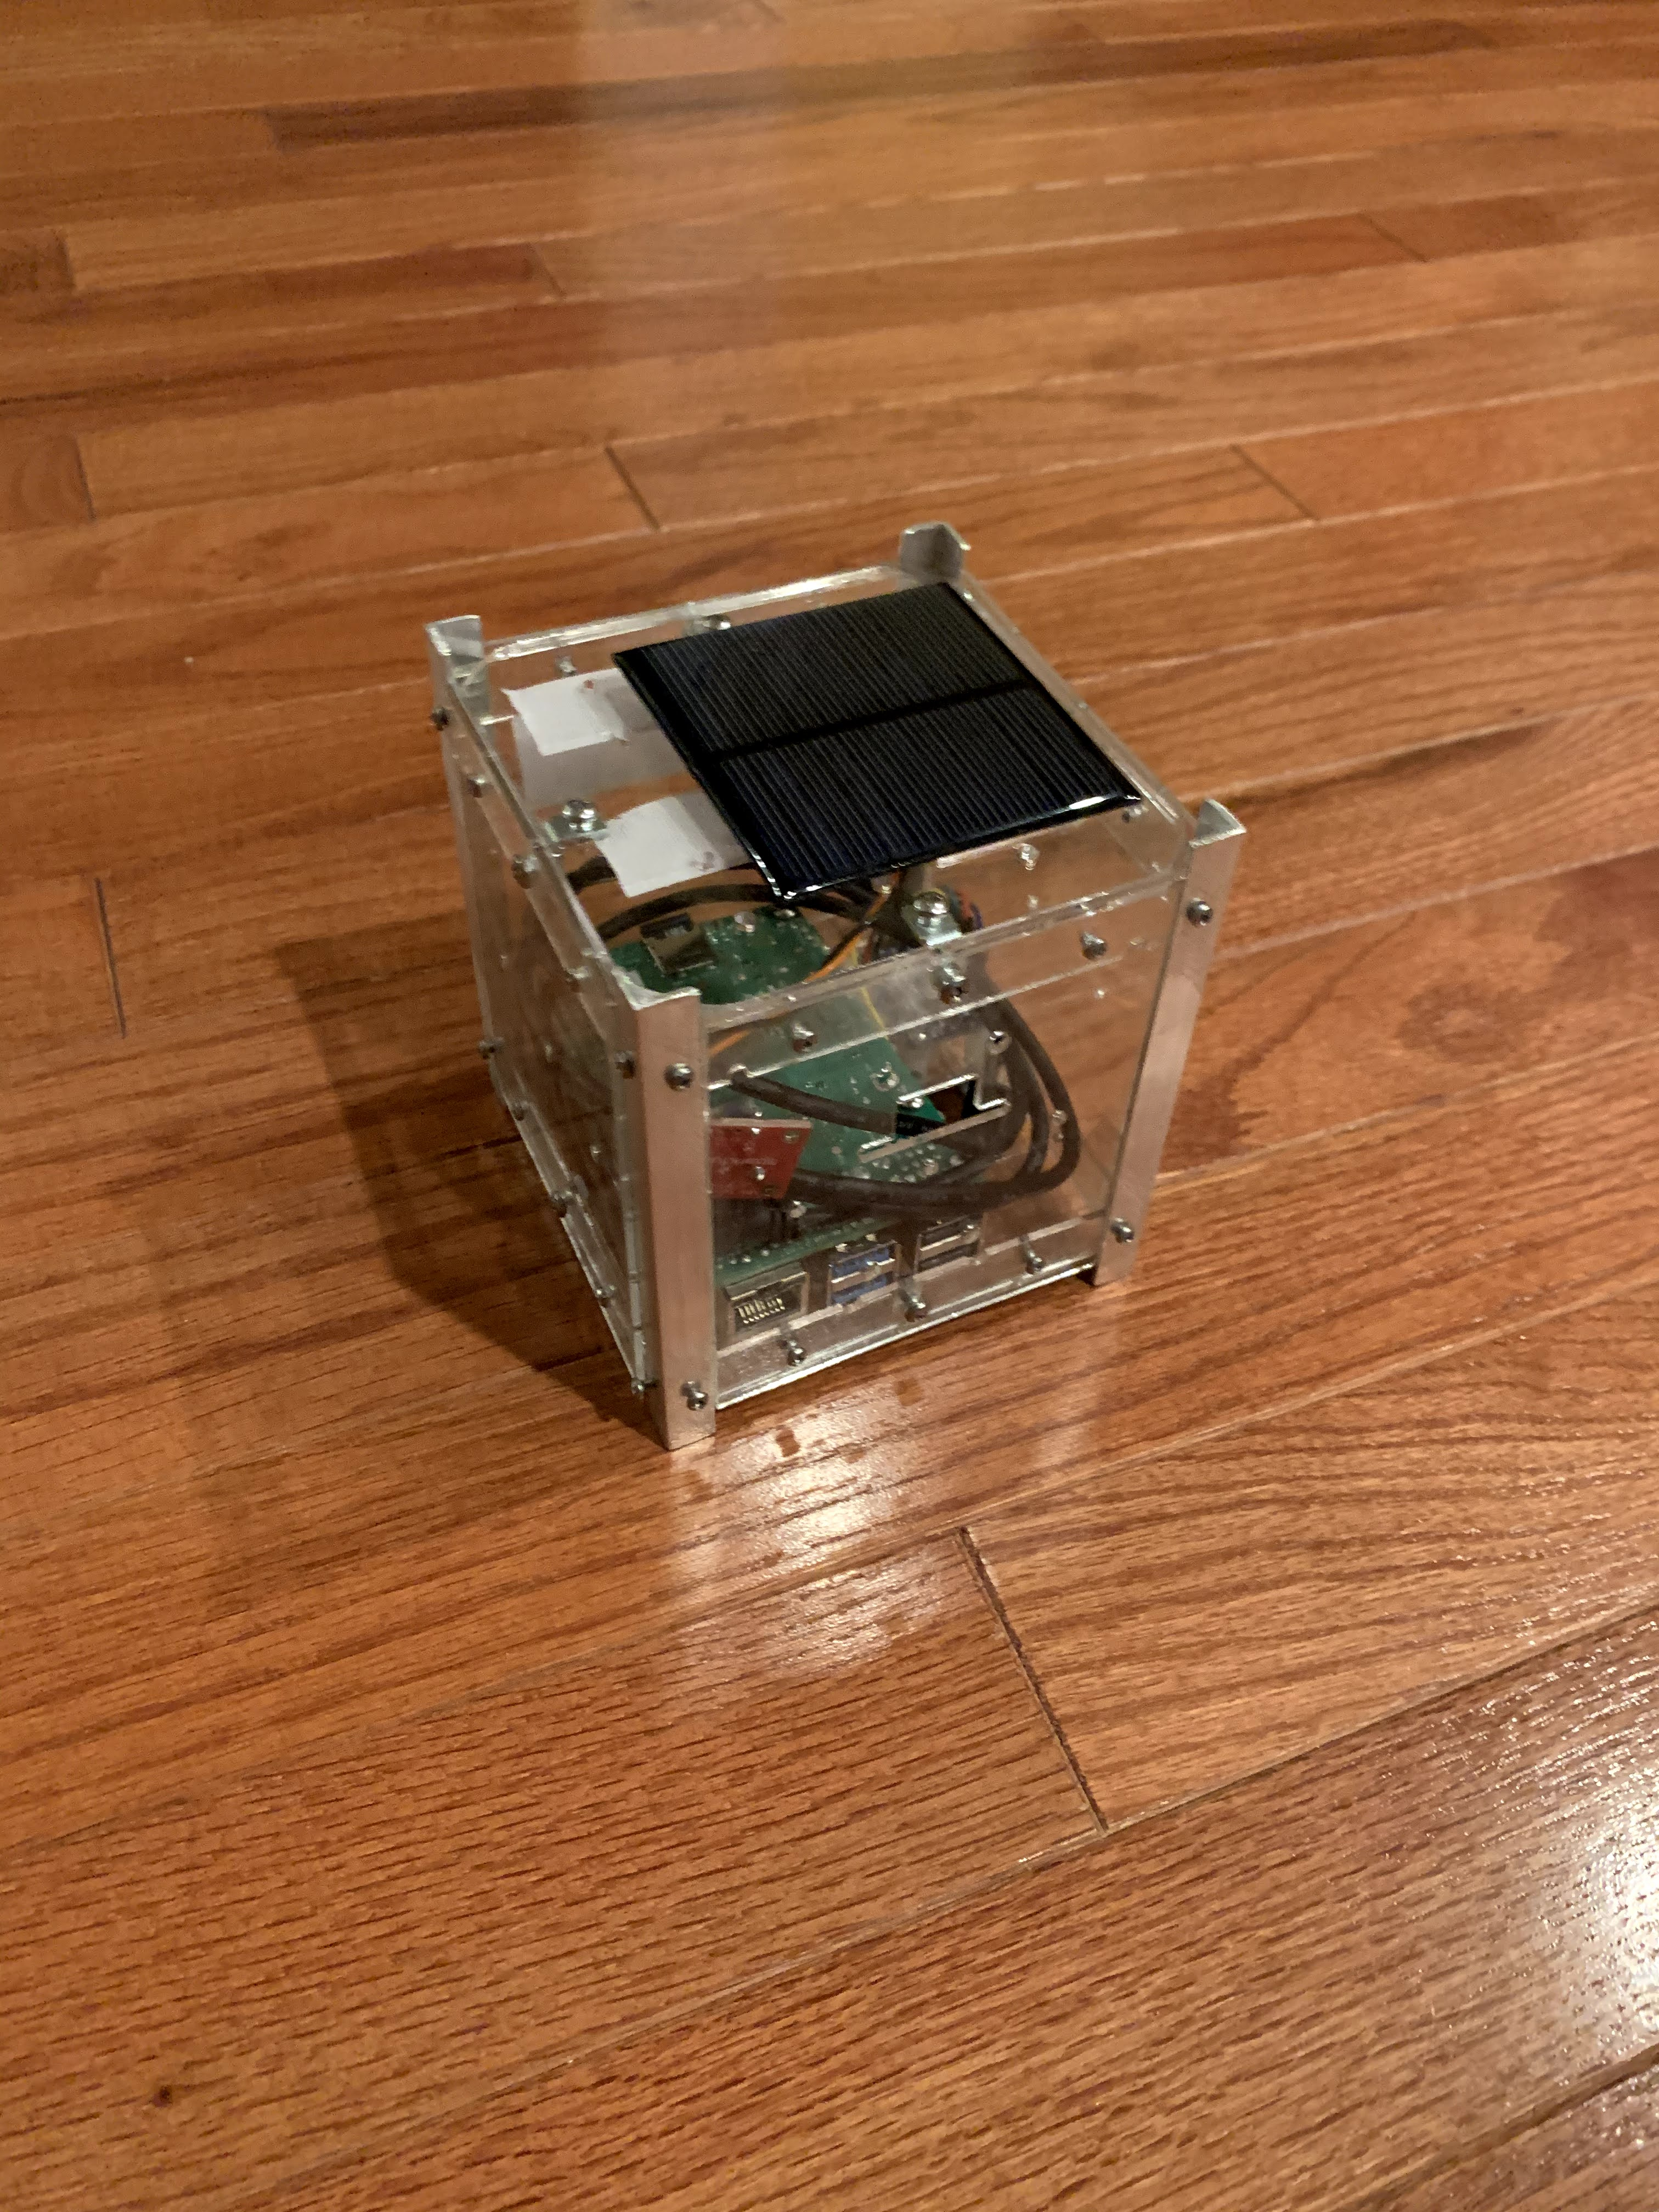Space-debris-cubesat: (418, 517, 1281, 1470)
